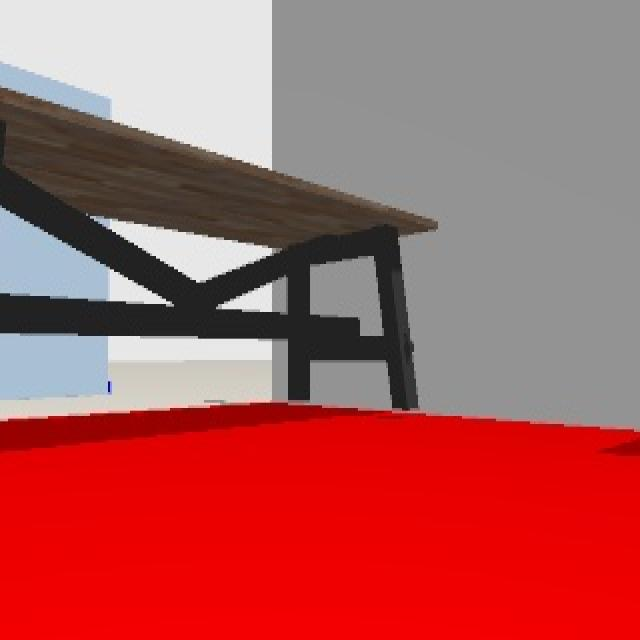dining: (0, 85, 435, 414)
